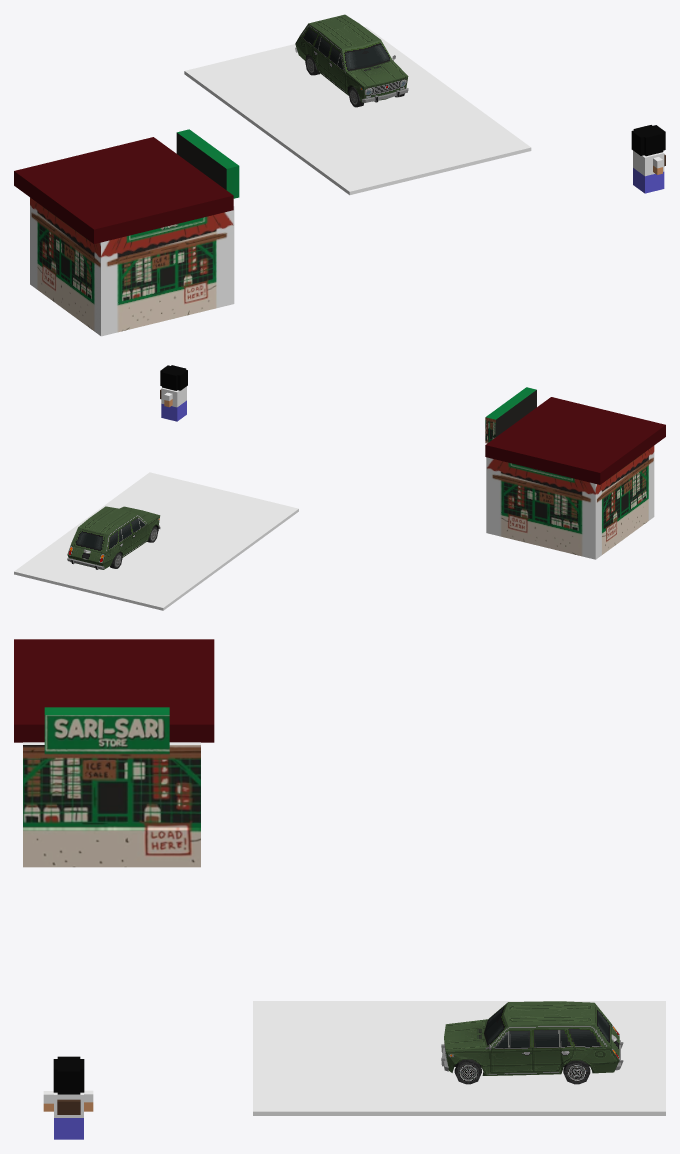
File: HiEmaaa.glb
3 renders of one model, top to bottom at view 1: azimuth 30°, elevation 25°; view 2: azimuth 150°, elevation 25°; view 3: azimuth 270°, elevation 25°, orthographic. The views are drawn at different scales.
Visible parts, largest first — view 1: store, Cube.004, kotse, tao; view 2: store, Cube.004, kotse, tao; view 3: store, Cube.004, kotse, tao.
Boxes of the visible parts, left/top/right/bottom form: store: left=14, top=129, right=239, bottom=336; Cube.004: left=184, top=26, right=531, bottom=195; kotse: left=295, top=14, right=408, bottom=107; tao: left=631, top=125, right=665, bottom=193; store: left=485, top=387, right=665, bottom=559; Cube.004: left=14, top=472, right=298, bottom=610; kotse: left=67, top=506, right=160, bottom=569; tao: left=160, top=365, right=187, bottom=421; store: left=14, top=639, right=214, bottom=867; Cube.004: left=253, top=1001, right=665, bottom=1115; kotse: left=441, top=1001, right=623, bottom=1084; tao: left=43, top=1056, right=93, bottom=1139.
Size of the model in its own units: 36.05 by 8.05 by 27.62.
10 materials, 2 textured.
